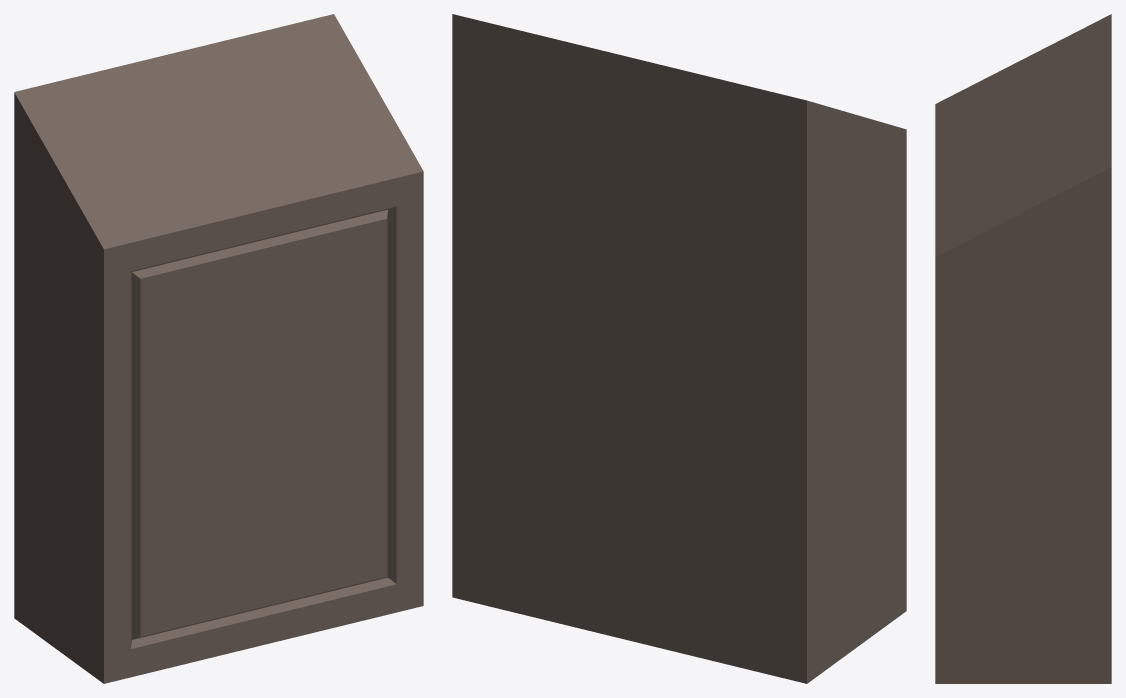
Rendered from LP_PostApoc_ElectricalBox.fbx.
3 renders of one model, left to right at view 1: azimuth 30°, elevation 25°; view 2: azimuth 150°, elevation 25°; view 3: azimuth 270°, elevation 25°, orthographic. The views are drawn at different scales.
Visible parts, largest first — view 1: ElectricalBox; view 2: ElectricalBox; view 3: ElectricalBox.
Boxes of the visible parts, x1=… form: ElectricalBox: x1=14, y1=14, x2=423, y2=683; ElectricalBox: x1=452, y1=14, x2=906, y2=683; ElectricalBox: x1=935, y1=14, x2=1111, y2=683.
Bounding box in the file's own units: 71.02 × 112 × 34.51.
